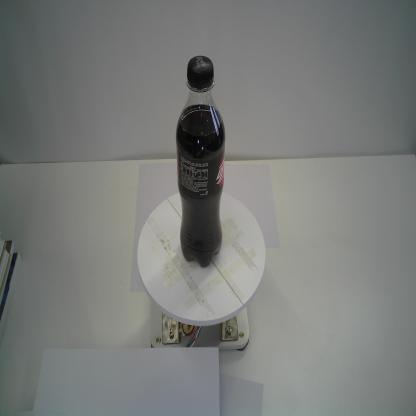Drink: (174, 53, 226, 269)
